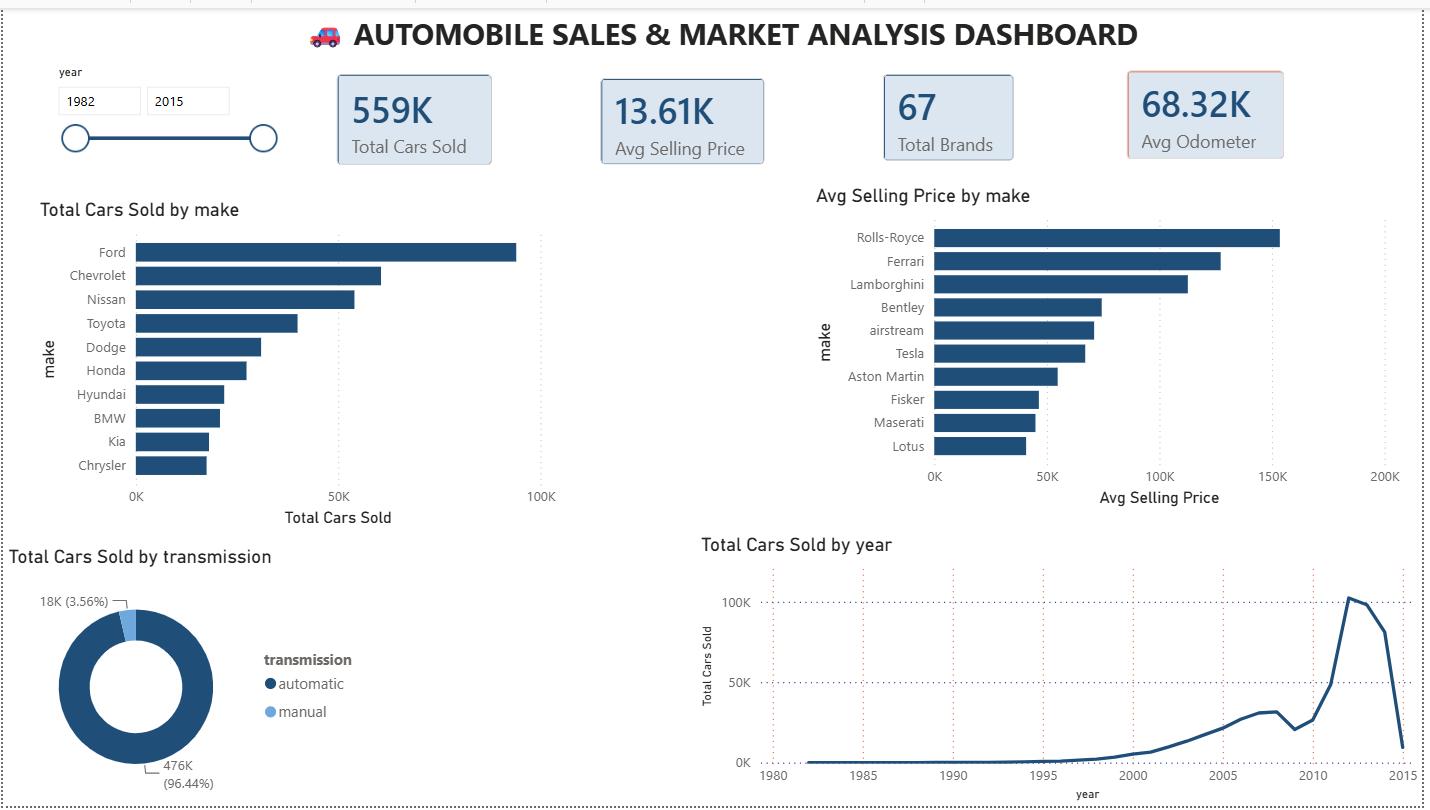

What the dashboard file says about the page in this screenshot:
{"tool":"powerbi","page":{"name":"Page 1","canvas":[1280,720],"ordinal":0},"visuals":[{"type":"cardVisual","fields":{"Data":["car_prices.Total Cars Sold"]},"box":[284.4,42.9,174.1,116.5],"z":0},{"type":"cardVisual","fields":{"Data":["car_prices.Avg Selling Price"]},"box":[522.3,46.6,182.7,112.8],"z":1000},{"type":"cardVisual","fields":{"Data":["car_prices.Total Brands"]},"box":[776.1,42.9,152,112.8],"z":2000},{"type":"textbox","box":[266.6,0,835.2,58.7],"z":3000},{"type":"cardVisual","fields":{"Data":["car_prices.Avg Odometer"]},"box":[996.8,39.2,176.6,114],"z":4000},{"type":"barChart","fields":{"Category":["car_prices.make"],"Y":["car_prices.Total Cars Sold"]},"box":[28.2,171.6,475.7,301.6],"z":5000},{"type":"clusteredBarChart","fields":{"Category":["car_prices.make"],"Y":["car_prices.Avg Selling Price"]},"box":[727.6,159,536.8,295.9],"z":7000},{"type":"lineChart","fields":{"Category":["car_prices.year"],"Y":["car_prices.Total Cars Sold"]},"box":[624.4,473.4,655.9,247],"z":8000},{"type":"donutChart","fields":{"Category":["car_prices.transmission"],"Y":["car_prices.Total Cars Sold"]},"box":[0,484.4,336.2,236],"z":9000},{"type":"slicer","fields":{"Values":["car_prices.year"]},"box":[36.7,46.5,218.9,108.8],"z":11000}]}

Visuals, with their boxes in screenshot pixels (x1, y1, x2, y2), scaled from the page's 1280x720 canvas onto the 1430x810 screenshot:
cardVisual - car_prices.Total Cars Sold: (318,48,512,179)
cardVisual - car_prices.Avg Selling Price: (584,52,788,179)
cardVisual - car_prices.Total Brands: (867,48,1037,175)
textbox: (298,0,1231,66)
cardVisual - car_prices.Avg Odometer: (1114,44,1311,172)
barChart - car_prices.make x car_prices.Total Cars Sold: (32,193,563,532)
clusteredBarChart - car_prices.make x car_prices.Avg Selling Price: (813,179,1413,512)
lineChart - car_prices.year x car_prices.Total Cars Sold: (698,533,1429,809)
donutChart - car_prices.transmission x car_prices.Total Cars Sold: (0,545,376,809)
slicer - car_prices.year: (41,52,286,175)
